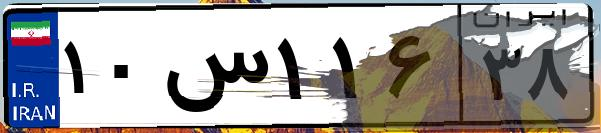0: (110, 28, 158, 98)
1: (270, 28, 330, 110), (330, 28, 385, 110), (57, 26, 110, 100)
3: (475, 38, 525, 113)
6: (385, 28, 445, 110)
8: (525, 38, 570, 115)
س: (158, 20, 270, 120)
